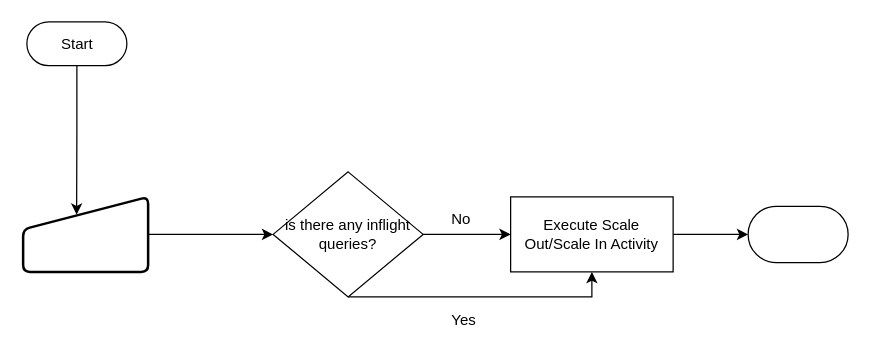
This 870x355 diagram has some shape labels left out. The box of each missing label's shape, as (x1, y1, x2, y2) in pixels:
End: (747, 205, 848, 262)
Manually trigger API Calls: (21, 195, 149, 272)
